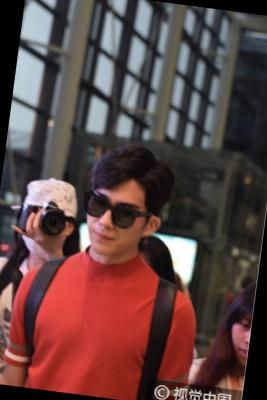without_mask: (82, 187, 150, 260), (229, 314, 253, 365)
